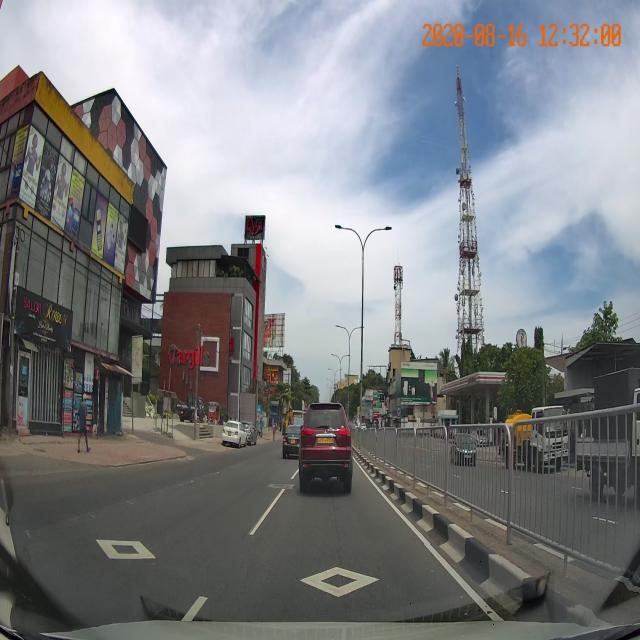diamond: (175, 544, 501, 626)
